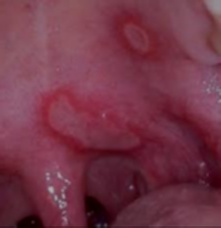Ulcer: (41, 86, 141, 156), (125, 22, 154, 56)
